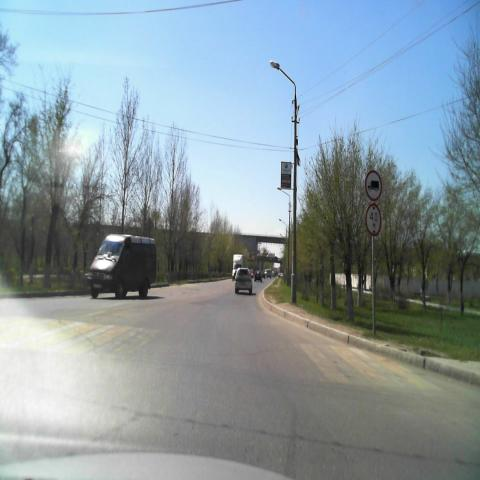3_13: (364, 203, 382, 236)
